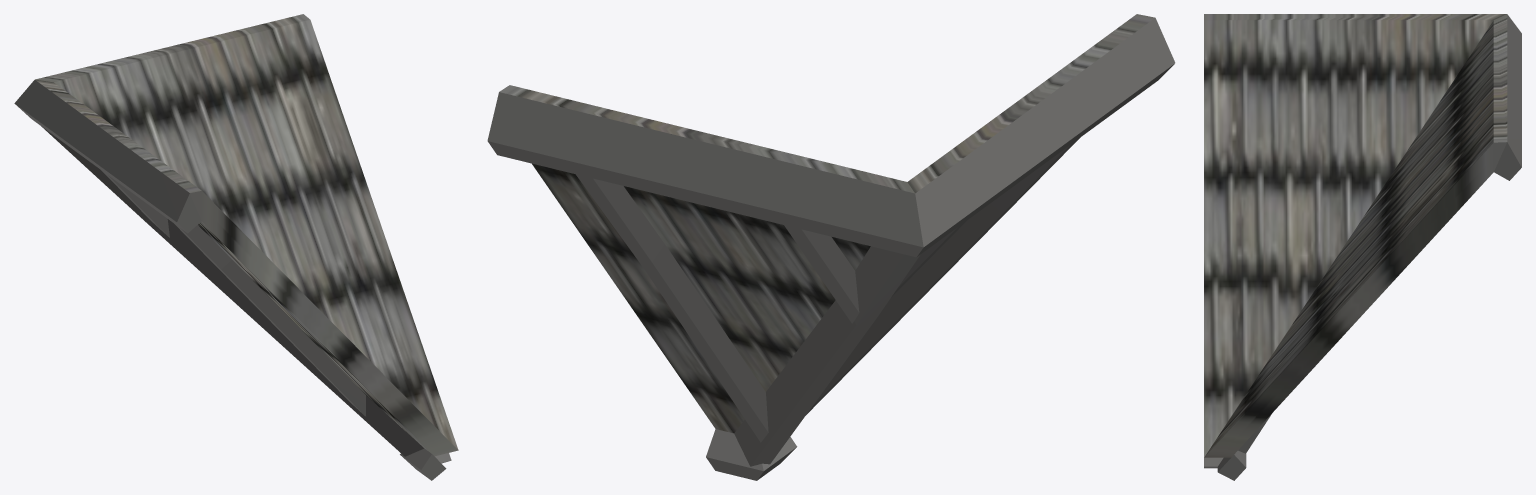
Rendered from ROOF CORNER 2.fbx.
3 views of the same model, side by side, from view 1: azimuth 30°, elevation 25°; view 2: azimuth 150°, elevation 25°; view 3: azimuth 270°, elevation 25° (orthographic). The views are drawn at different scales.
Parts seen in each view (by area): view 1: RoofCorner2; view 2: RoofCorner2; view 3: RoofCorner2.
Part boxes in pixels (x1,y1,x2,y2): RoofCorner2: [14, 14, 458, 480]; RoofCorner2: [487, 14, 1175, 480]; RoofCorner2: [1204, 14, 1521, 480].
Size of the model in its own units: 262 by 308 by 262.
